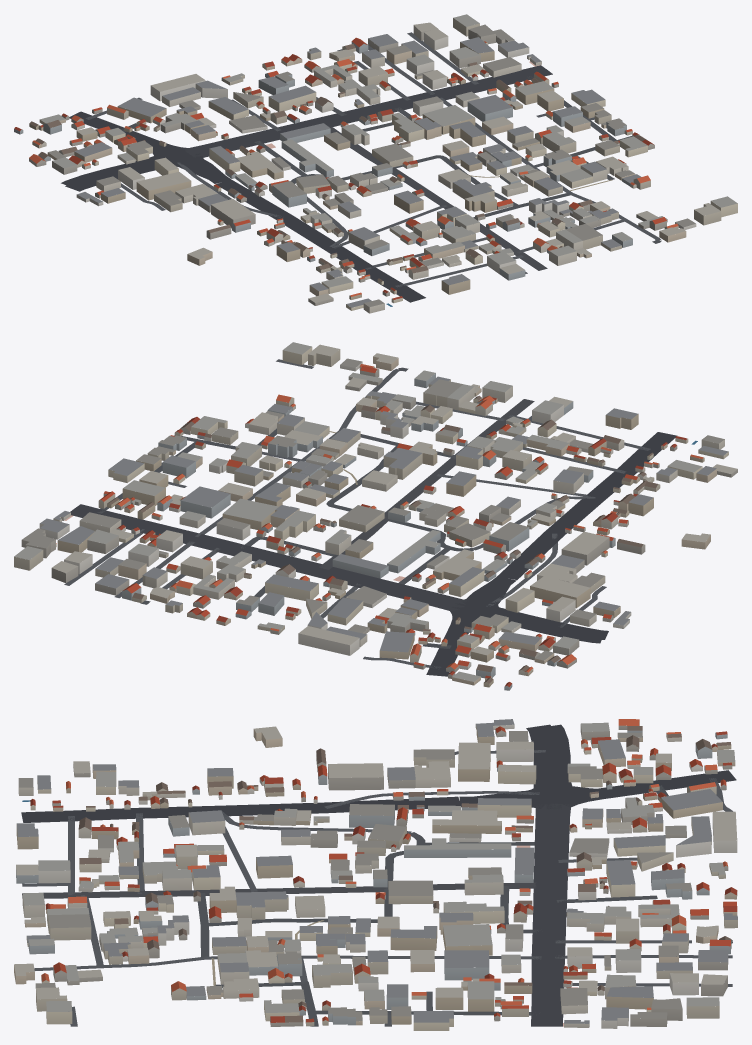
3 renders of one model, top to bottom at view 1: azimuth 30°, elevation 25°; view 2: azimuth 150°, elevation 25°; view 3: azimuth 270°, elevation 25°, orthographic. The views are drawn at different scales.
Parts seen in each view (by area): view 1: buildings_roofs, buildings_walls, roads; view 2: buildings_roofs, buildings_walls, roads; view 3: buildings_roofs, buildings_walls, roads.
Boxes of the visible parts, x1,y1,x2,y2 form: buildings_roofs: (14, 14, 737, 307); buildings_walls: (14, 18, 737, 313); roads: (61, 32, 661, 302); buildings_roofs: (14, 342, 737, 686); buildings_walls: (14, 347, 737, 690); roads: (64, 359, 677, 676); buildings_roofs: (14, 719, 737, 1023); buildings_walls: (14, 721, 737, 1030); roads: (21, 724, 736, 1026).
Bounding box in the file's own units: 513 × 10.02 × 509.
